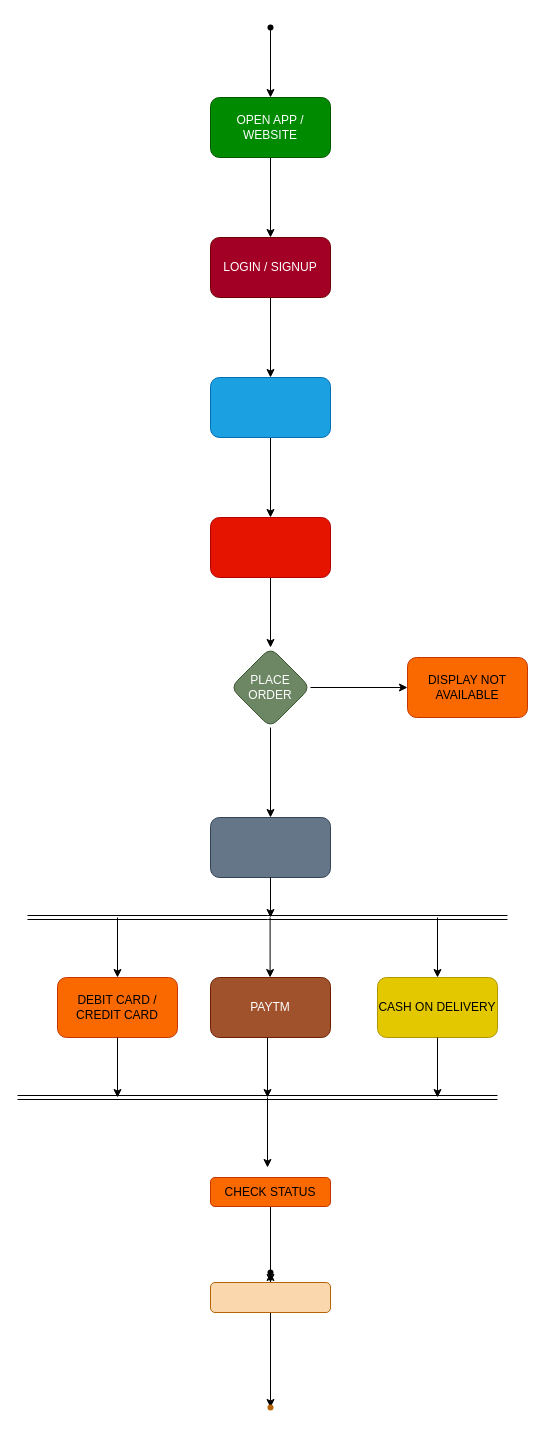
Some shapes in this 545 by 1435 pixel diagram are drawn without their labels. The box of each missing label's shape, as (x1, y1, x2, y2) in pixels:
PAYMENT: (210, 816, 330, 878)
RECIEVE FOOD: (210, 1282, 330, 1312)
SEARCH FOOD: (210, 376, 330, 438)
SELECT DISH: (210, 516, 330, 578)
